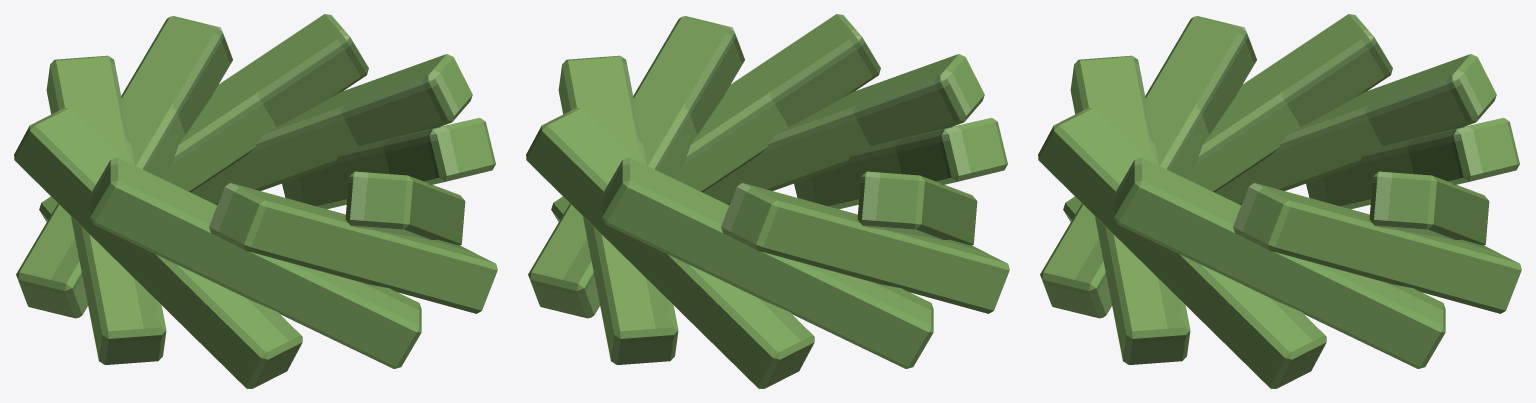
The model's file is grass_fern.glb.
3 renders of one model, left to right at view 1: azimuth 30°, elevation 25°; view 2: azimuth 150°, elevation 25°; view 3: azimuth 270°, elevation 25°, orthographic.
Parts seen in each view (by area): view 1: FernLeaf_6, FernLeaf_5, FernLeaf_7, FernLeaf_3, FernLeaf_2, FernLeaf_1, FernLeaf_4, FernLeaf_0, FernLeaf_8; view 2: FernLeaf_3, FernLeaf_2, FernLeaf_4, FernLeaf_0, FernLeaf_8, FernLeaf_7, FernLeaf_1, FernLeaf_6, FernLeaf_5; view 3: FernLeaf_0, FernLeaf_8, FernLeaf_1, FernLeaf_6, FernLeaf_5, FernLeaf_4, FernLeaf_7, FernLeaf_3, FernLeaf_2.
Part boxes in pixels (x1=…): FernLeaf_6: x1=90, y1=157, x2=421, y2=368; FernLeaf_5: x1=14, y1=108, x2=302, y2=388; FernLeaf_7: x1=209, y1=183, x2=497, y2=313; FernLeaf_3: x1=16, y1=16, x2=232, y2=318; FernLeaf_2: x1=39, y1=14, x2=368, y2=221; FernLeaf_1: x1=191, y1=54, x2=472, y2=205; FernLeaf_4: x1=46, y1=55, x2=166, y2=364; FernLeaf_0: x1=282, y1=117, x2=495, y2=209; FernLeaf_8: x1=345, y1=171, x2=465, y2=245; FernLeaf_3: x1=602, y1=157, x2=933, y2=368; FernLeaf_2: x1=526, y1=108, x2=814, y2=388; FernLeaf_4: x1=721, y1=183, x2=1009, y2=313; FernLeaf_0: x1=528, y1=16, x2=744, y2=318; FernLeaf_8: x1=551, y1=14, x2=880, y2=221; FernLeaf_7: x1=703, y1=54, x2=984, y2=205; FernLeaf_1: x1=558, y1=55, x2=678, y2=364; FernLeaf_6: x1=794, y1=117, x2=1007, y2=209; FernLeaf_5: x1=857, y1=171, x2=977, y2=245; FernLeaf_0: x1=1114, y1=157, x2=1445, y2=368; FernLeaf_8: x1=1038, y1=108, x2=1326, y2=388; FernLeaf_1: x1=1233, y1=183, x2=1521, y2=313; FernLeaf_6: x1=1040, y1=16, x2=1256, y2=318; FernLeaf_5: x1=1063, y1=14, x2=1392, y2=221; FernLeaf_4: x1=1215, y1=54, x2=1496, y2=205; FernLeaf_7: x1=1070, y1=55, x2=1190, y2=364; FernLeaf_3: x1=1306, y1=117, x2=1519, y2=209; FernLeaf_2: x1=1369, y1=171, x2=1489, y2=245.
Size of the model in its own units: 0.8811 by 0.3841 by 0.8927.
1 material, 1 textured.
